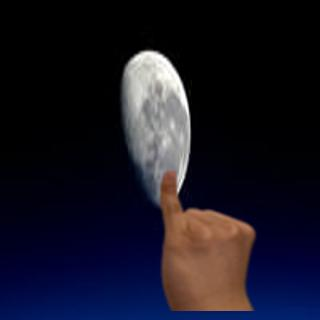FINE: (154, 169, 257, 309)
